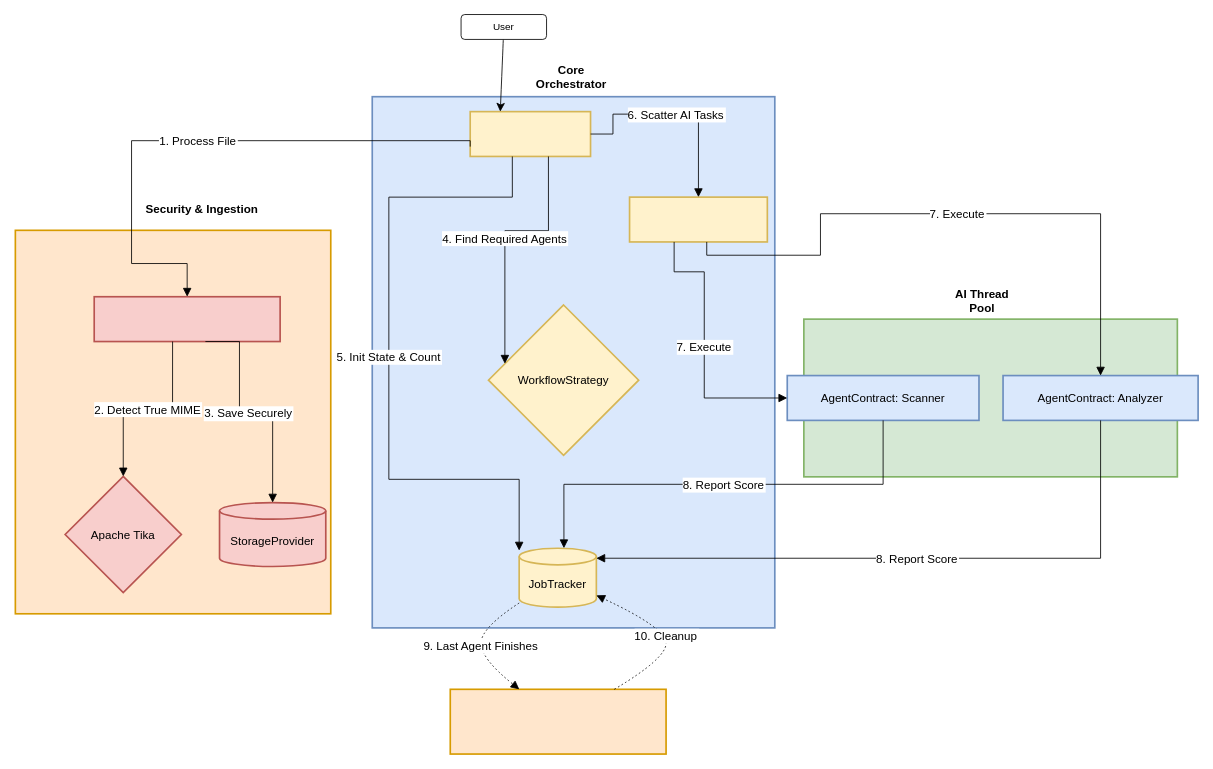
This 1213x769 diagram has some shape labels left out. Each missing label, with the centre of its shape:
"Fusion Phase: calculateScore" goes at point 557,721.
"JobManager" goes at point 530,133.
"SecureIngestionService" goes at point 187,318.
"TaskDispatcher" goes at point 698,219.
